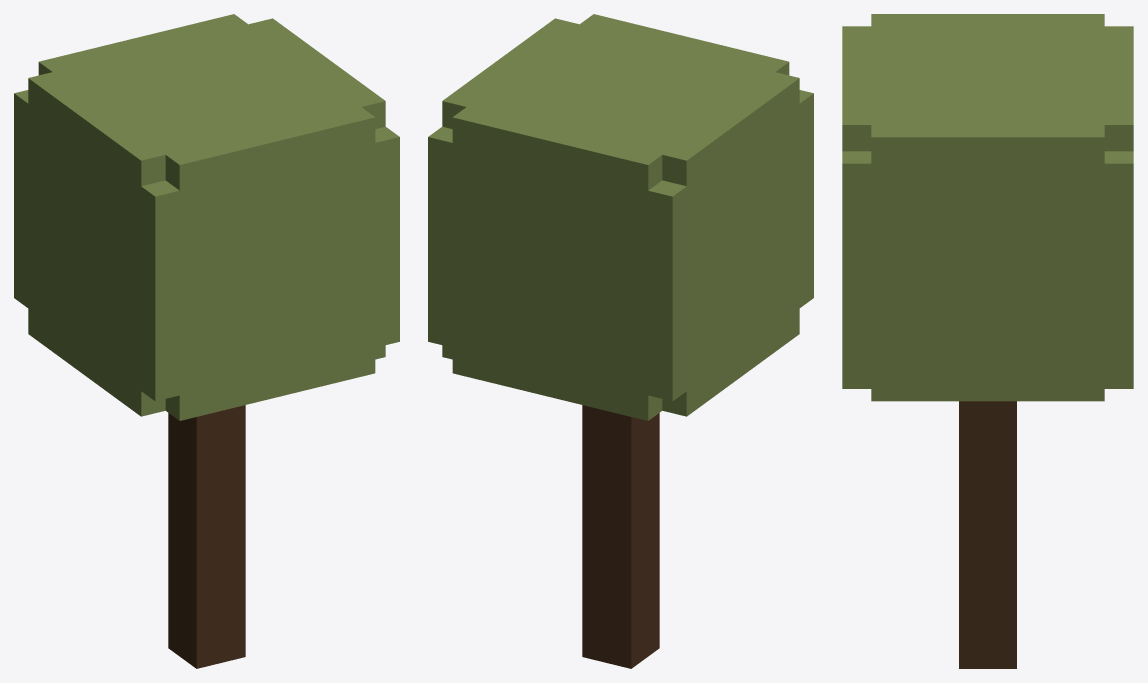
File: Buildings_01-15.obj
3 views of the same model, side by side, from view 1: azimuth 30°, elevation 25°; view 2: azimuth 150°, elevation 25°; view 3: azimuth 270°, elevation 25° (orthographic). The views are drawn at different scales.
Size of the model in its own units: 1 by 2.2 by 1.
1 material, 1 textured.
